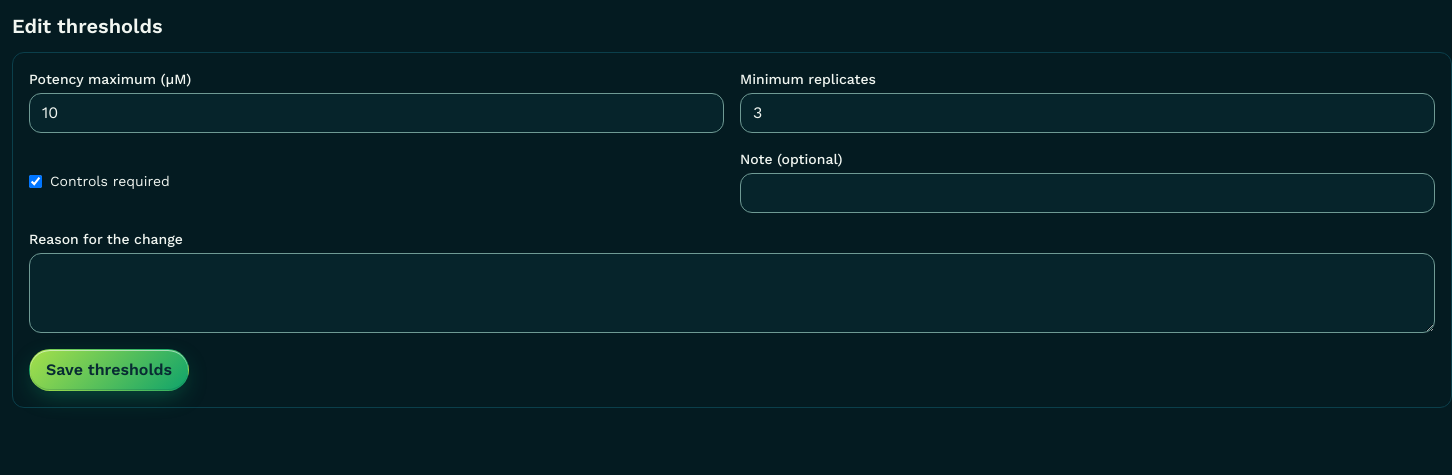
Test: ThresholdForm › states the other outcomes in words
The image size is (1452, 475).
Replace the text in the number field labelled "Minimum replicates" with "5" at [1088, 113], box [740,93,1435,133]
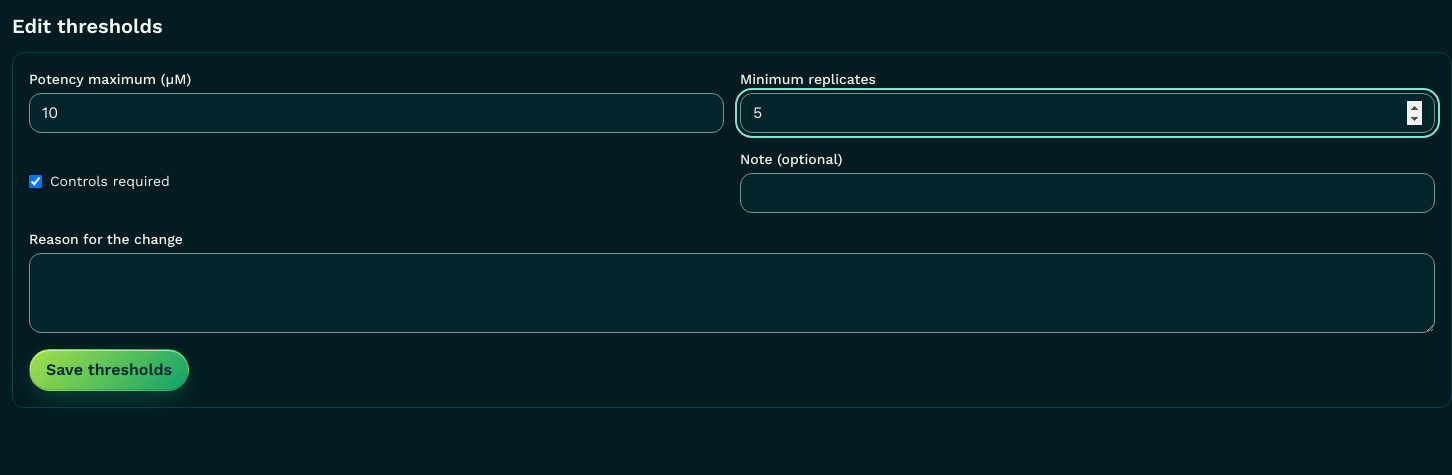
Type "tighten replicates" into the text box labelled "Reason for the change".
click(732, 293); type("tighten replicates")  # box [29,253,1435,333]
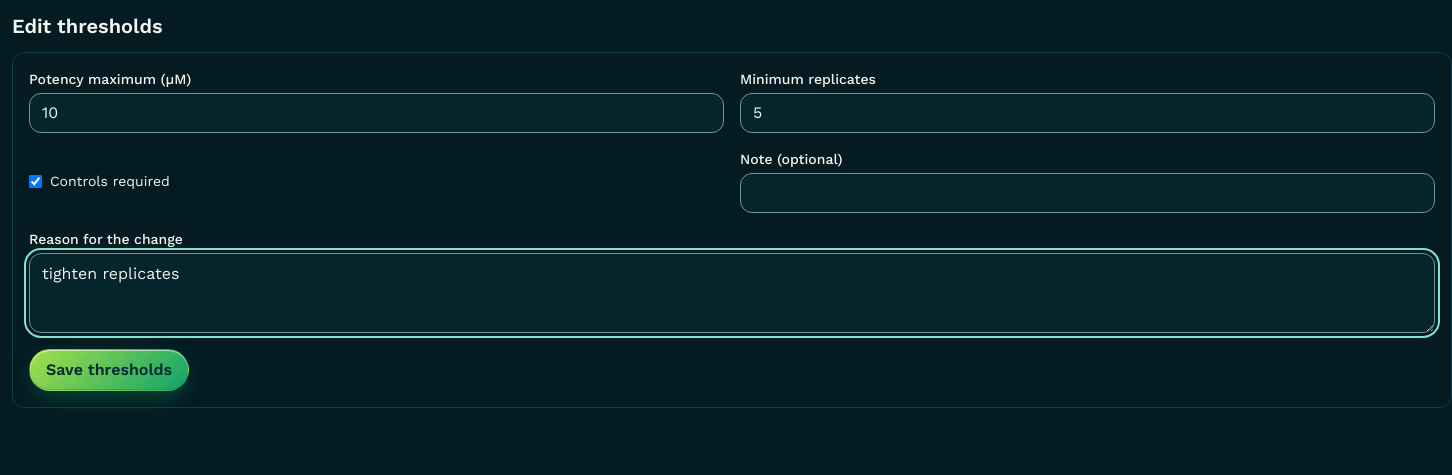
Click the button "Save thresholds".
click(109, 370)  # box [29,349,189,391]
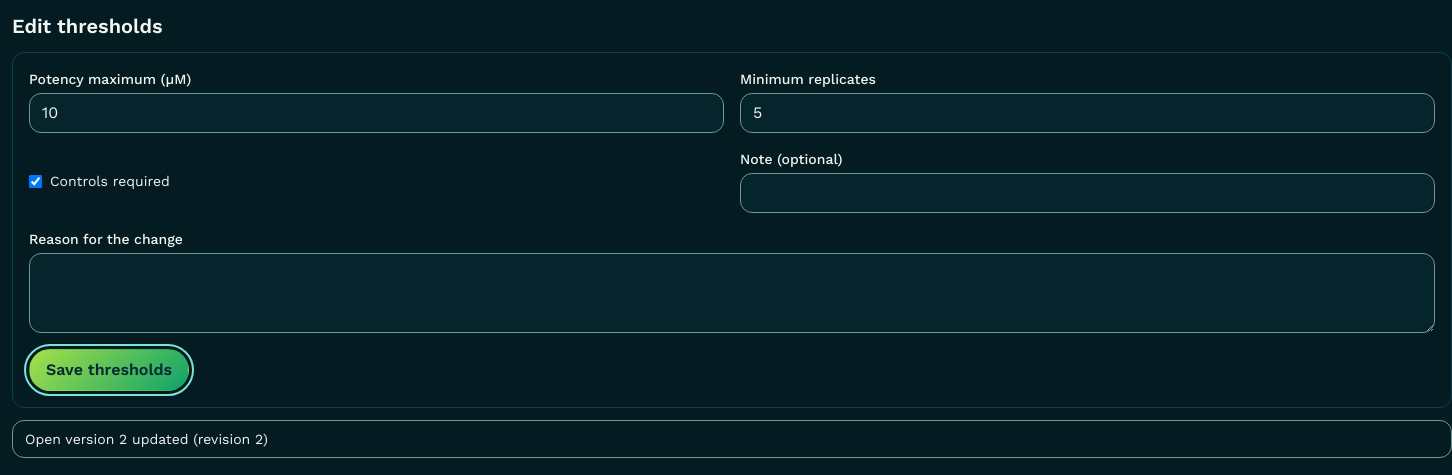
Result: the text "Open version 2 updated (revision 2)" is shown at [12,420,1451,458]
Type "resubmit as is" into the text box labelled "Reason for the change".
click(732, 293); type("resubmit as is")  # box [29,253,1435,333]
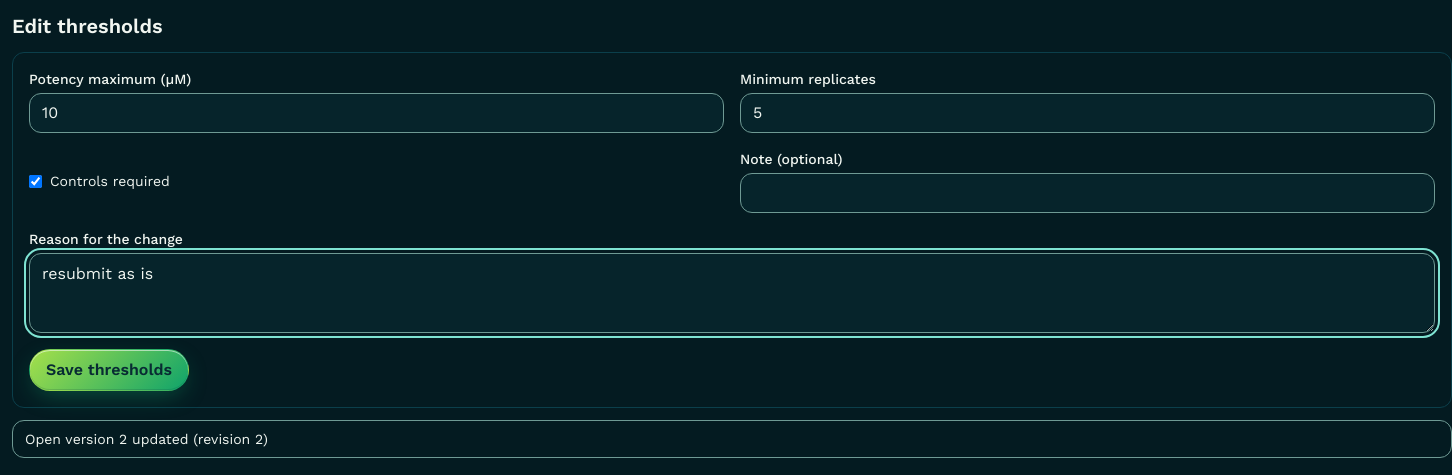
Click the button "Save thresholds".
click(109, 370)  # box [29,349,189,391]
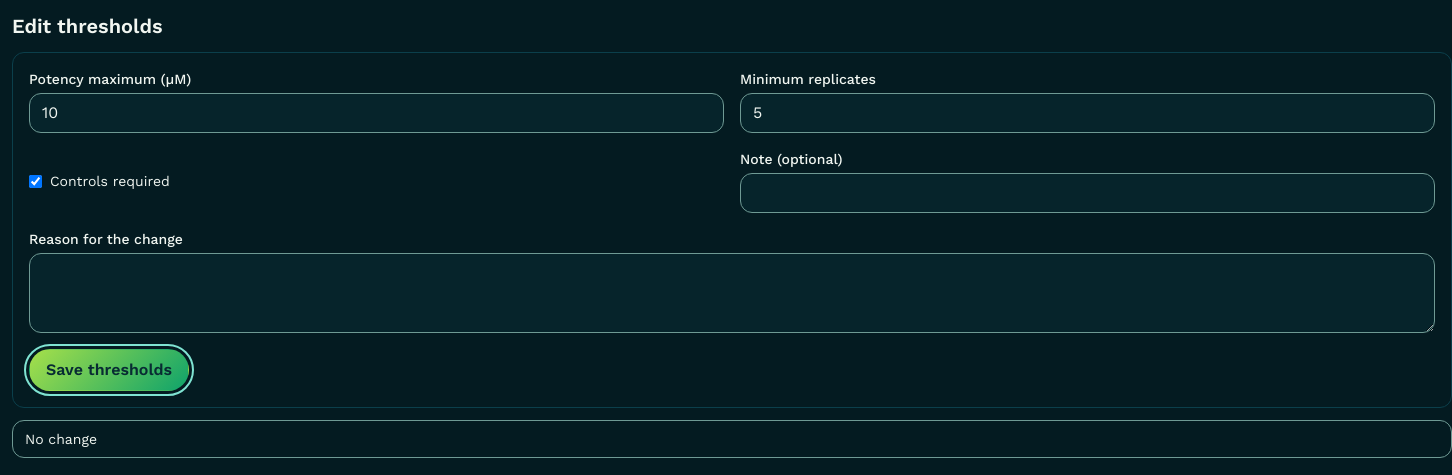
Result: the text "No change" is shown at [12,420,1451,458]
